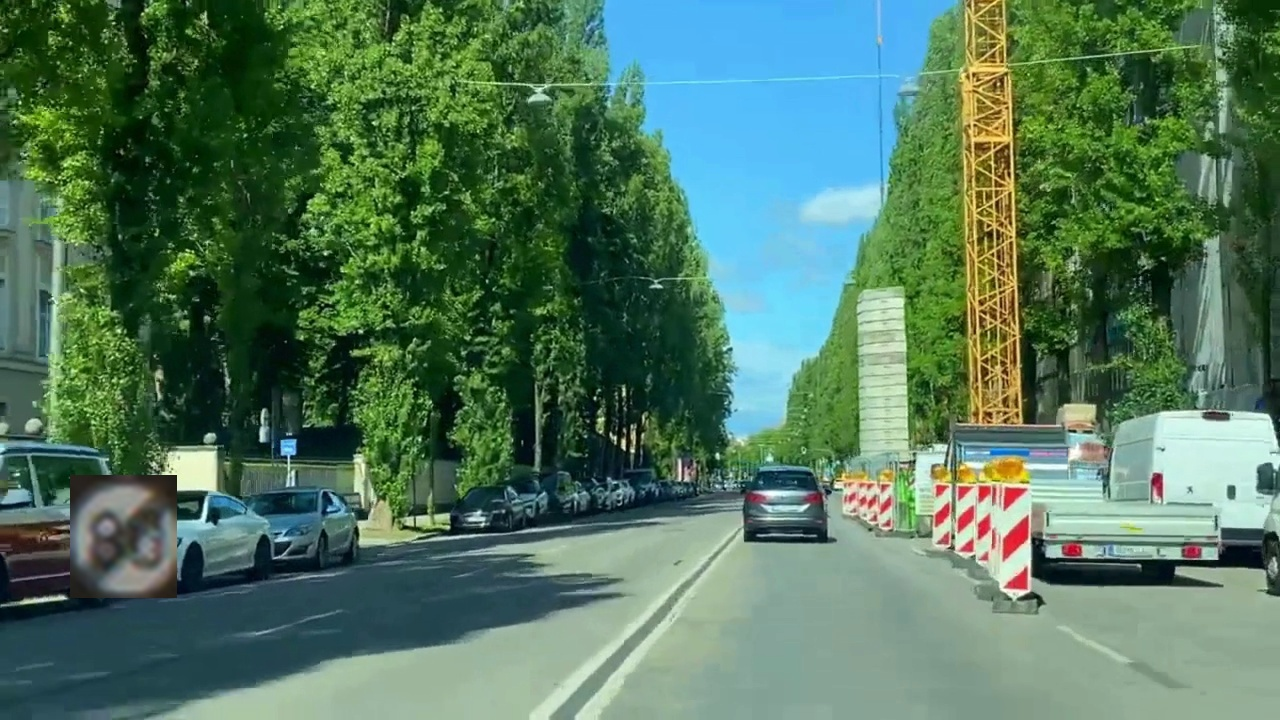End Speed 80: (70, 475, 177, 598)
